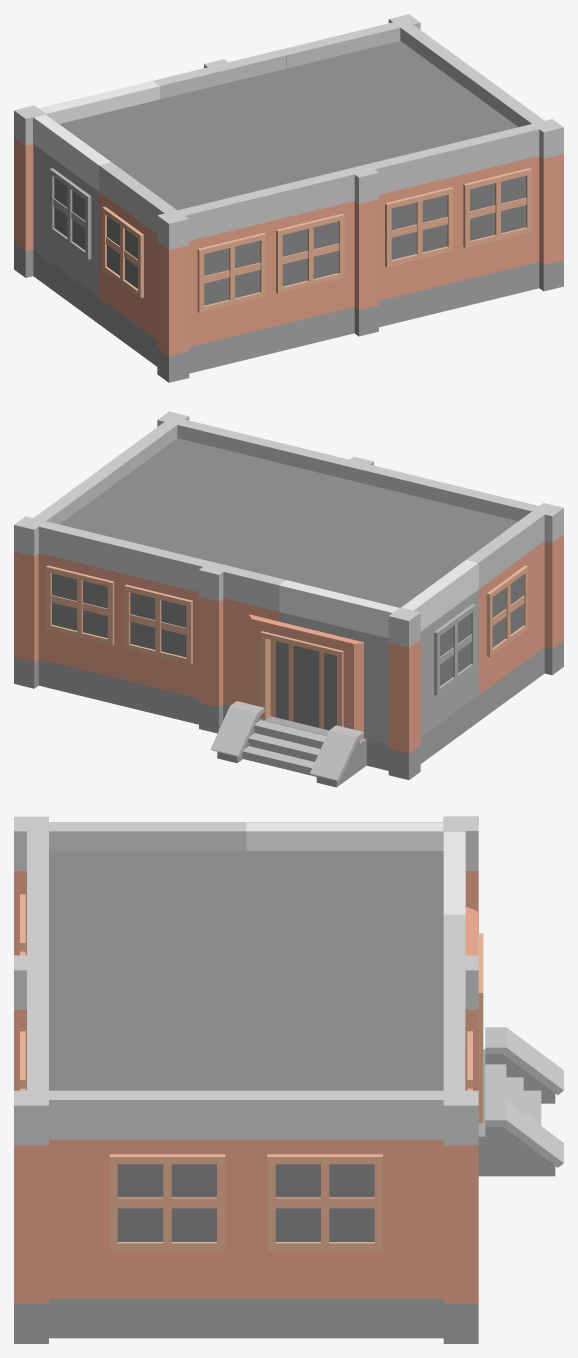
The model's file is libraryBuilding.fbx.
3 renders of one model, top to bottom at view 1: azimuth 30°, elevation 25°; view 2: azimuth 150°, elevation 25°; view 3: azimuth 270°, elevation 25°, orthographic. The views are drawn at different scales.
Parts seen in each view (by area): view 1: polySurface1519; view 2: polySurface1519; view 3: polySurface1519.
Boxes of the visible parts, <box> form: polySurface1519: <box>14,14,563,382</box>; polySurface1519: <box>14,411,563,787</box>; polySurface1519: <box>14,816,563,1343</box>.
Size of the model in its own units: 939 by 362 by 755.
